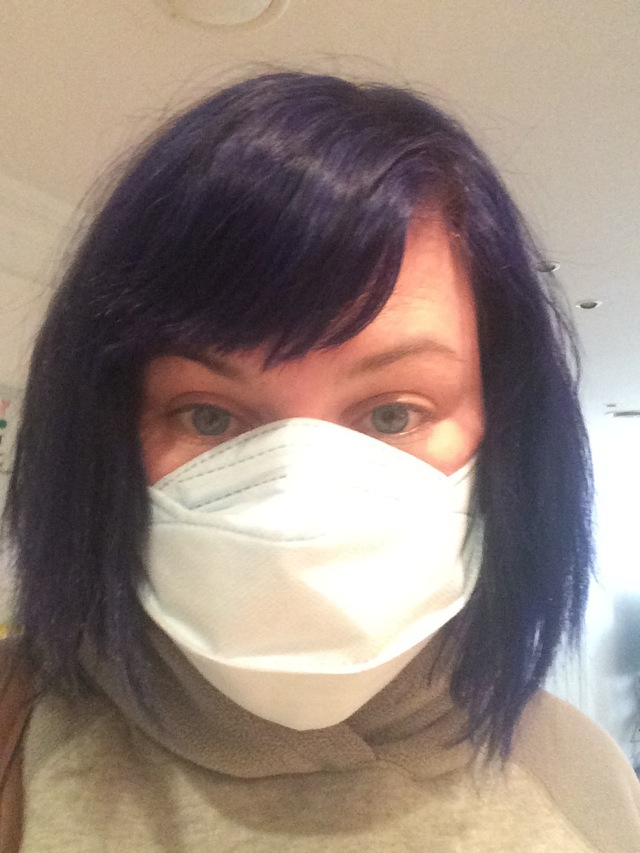mask: (160, 454, 487, 698)
